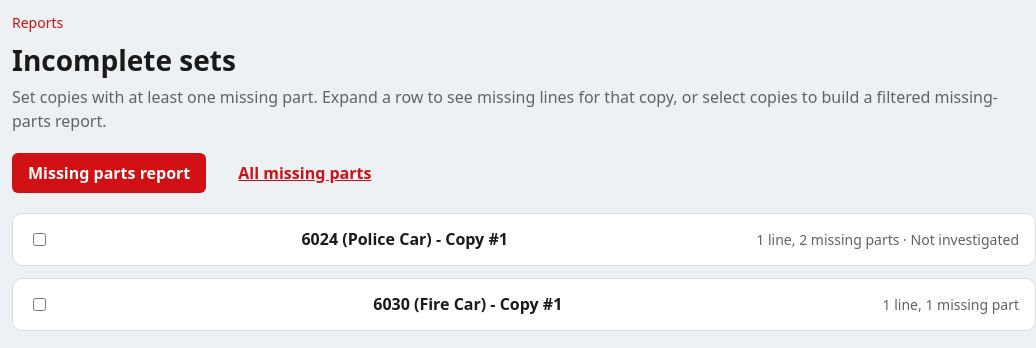
Test case: IncompleteSetsReportPage › navigates to all missing parts when none are selected
Expected: the link "6024 (Police Car) - Copy #1" is shown, top-left (302, 228), bottom-right (508, 250)
Click the button "Missing parts report" at [109, 173], box top-left (12, 153), bottom-right (206, 193)
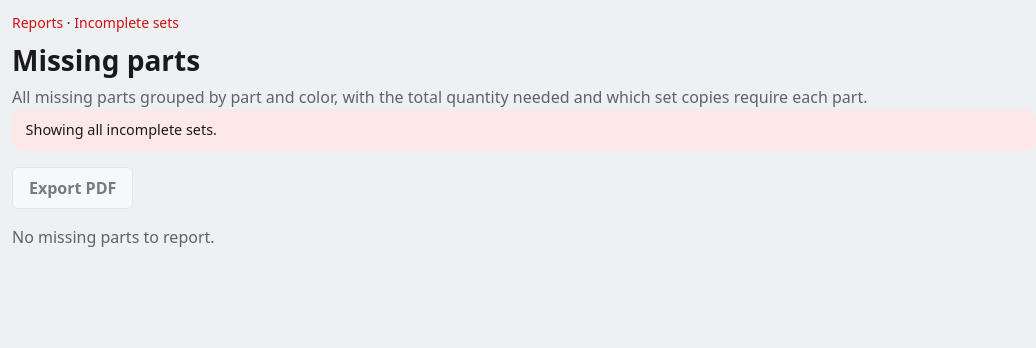
Expected: the text "Showing all incomplete sets." is shown, top-left (12, 109), bottom-right (1035, 151)
